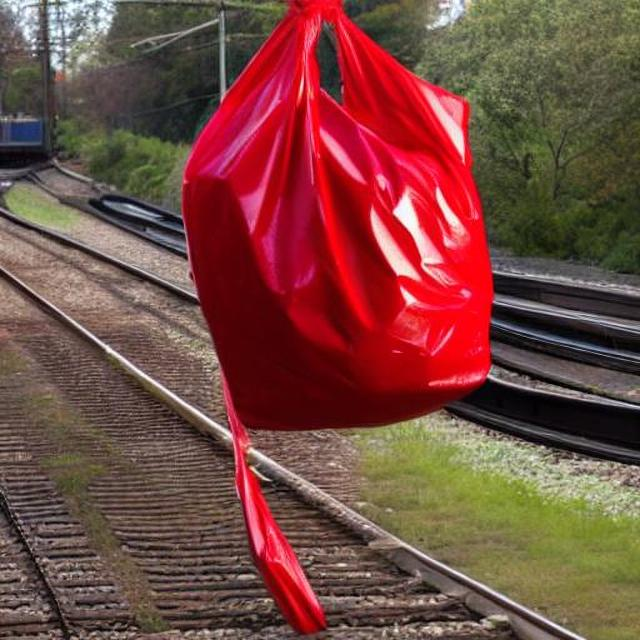plastic bag: (189, 12, 519, 611)
